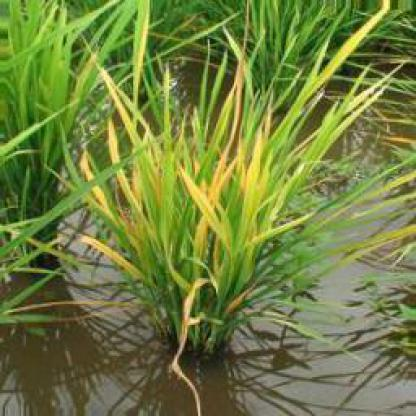Tungro: (285, 63, 401, 200), (97, 55, 162, 195), (305, 3, 399, 88), (167, 281, 220, 416), (209, 6, 260, 138), (177, 165, 230, 256), (79, 229, 156, 289), (243, 86, 276, 211), (242, 206, 328, 250), (110, 125, 143, 232), (81, 150, 119, 240)
